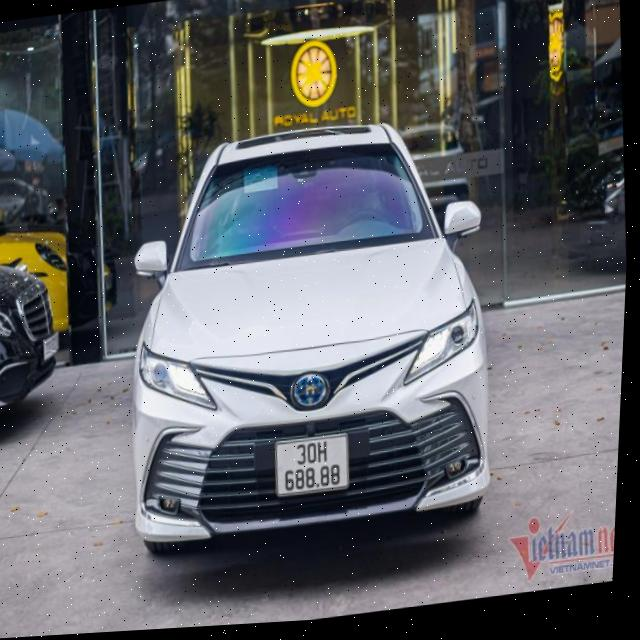car: (106, 101, 516, 591), (0, 151, 81, 487)
plate: (265, 424, 357, 501)
